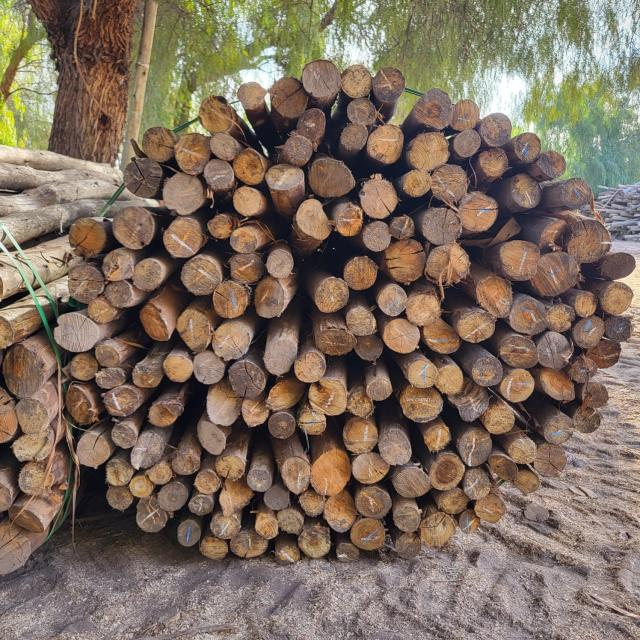package: (57, 63, 631, 561)
